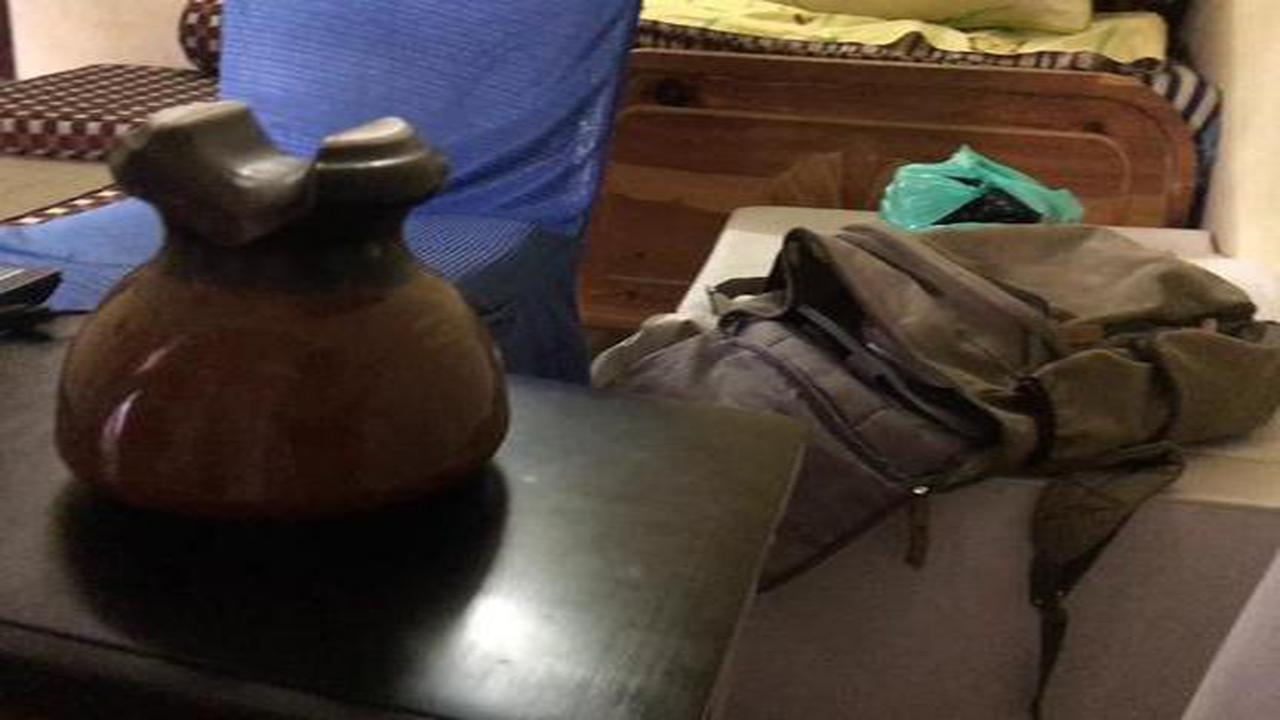insulator_pin: (42, 89, 527, 561)
